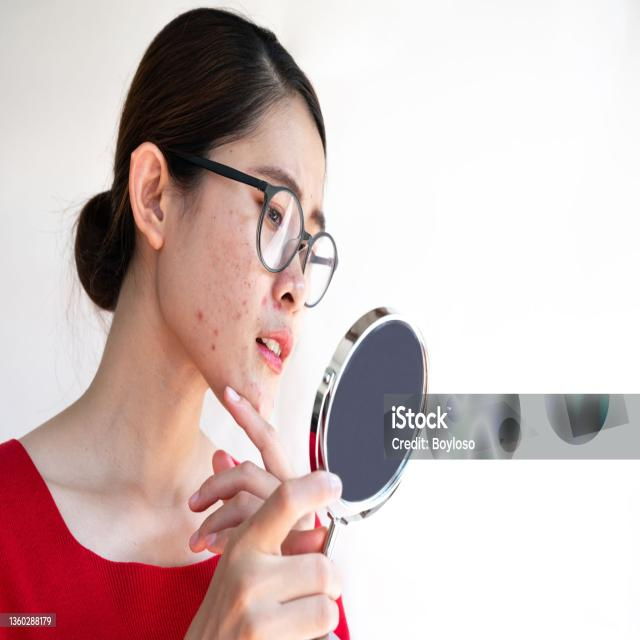papule: (256, 390, 263, 414), (196, 308, 206, 324), (260, 293, 270, 308), (234, 309, 243, 323), (212, 324, 221, 337), (241, 298, 250, 308), (243, 310, 251, 318)
